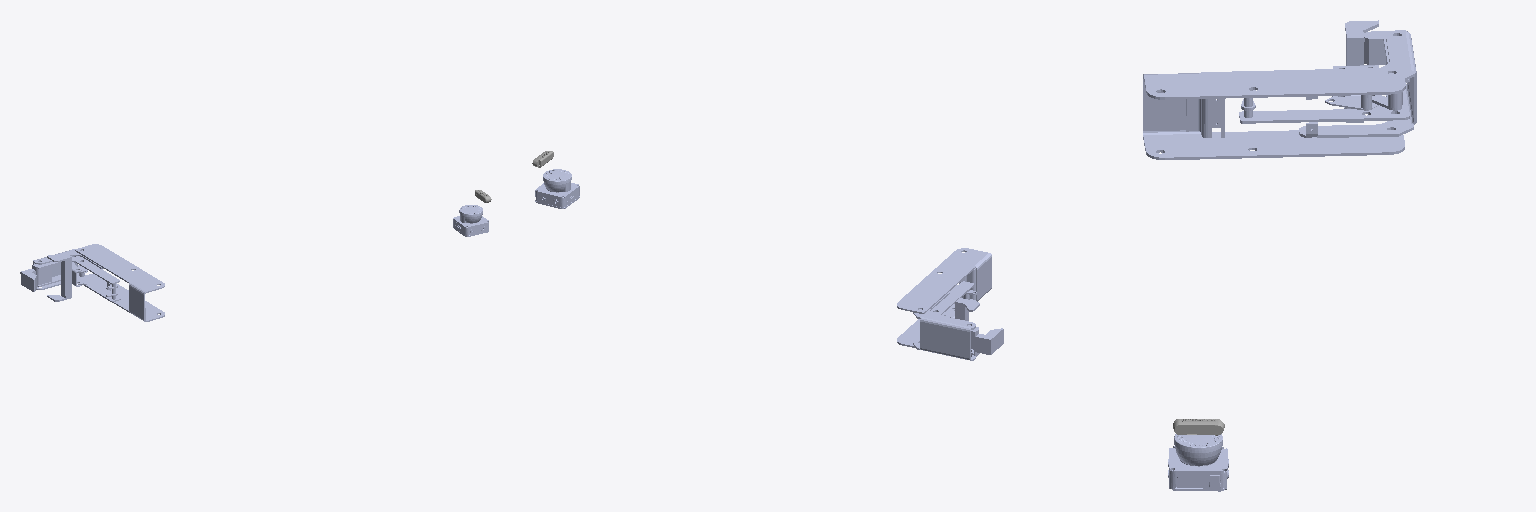
robot.urdf — tugging_robot_180424_3:
<?xml version="1.0" encoding="utf-8"?>
<!-- This URDF was automatically created by SolidWorks to URDF Exporter! Originally created by [author] ([email redacted]) 
     Commit Version: 1.6.0-4-g7f85cfe  Build Version: 1.6.7995.38578
     For more information, please see http://wiki.ros.org/sw_urdf_exporter -->
<robot
  name="tugging_robot_180424_3">
  <link
    name="base_link">
    <inertial>
      <origin
        xyz="0.29323 -1.5341 0.30875"
        rpy="0 0 0" />
      <mass
        value="70.132" />
      <inertia
        ixx="1.4254"
        ixy="-0.032669"
        ixz="0.0002593"
        iyy="3.0196"
        iyz="-0.0094349"
        izz="1.9355" />
    </inertial>
    <visual>
      <origin
        xyz="0 0 0"
        rpy="0 0 0" />
      <geometry>
        <mesh
          filename="package://tugging_robot_180424_3/meshes/base_link.STL" />
      </geometry>
      <material
        name="">
        <color
          rgba="0.79216 0.81961 0.93333 1" />
      </material>
    </visual>
    <collision>
      <origin
        xyz="0 0 0"
        rpy="0 0 0" />
      <geometry>
        <mesh
          filename="package://tugging_robot_180424_3/meshes/base_link.STL" />
      </geometry>
    </collision>
  </link>
  <link
    name="left_wheel">
    <inertial>
      <origin
        xyz="-1.5453E-08 1.6511E-08 -0.006167"
        rpy="0 0 0" />
      <mass
        value="1.2164" />
      <inertia
        ixx="0.0044416"
        ixy="4.9256E-07"
        ixz="4.7872E-11"
        iyy="0.0044446"
        iyz="-7.4615E-11"
        izz="0.0082257" />
    </inertial>
    <visual>
      <origin
        xyz="0 0 0"
        rpy="0 0 0" />
      <geometry>
        <mesh
          filename="package://tugging_robot_180424_3/meshes/left_wheel.STL" />
      </geometry>
      <material
        name="">
        <color
          rgba="0.79216 0.81961 0.93333 1" />
      </material>
    </visual>
    <collision>
      <origin
        xyz="0 0 0"
        rpy="0 0 0" />
      <geometry>
        <mesh
          filename="package://tugging_robot_180424_3/meshes/left_wheel.STL" />
      </geometry>
    </collision>
  </link>
  <joint
    name="left_wheel_joint"
    type="continuous">
    <origin
      xyz="0.30947 -0.62421 -1.725"
      rpy="1.5621 0 0" />
    <parent
      link="base_link" />
    <child
      link="left_wheel" />
    <axis
      xyz="0 0 -1" />
  </joint>
  <link
    name="right_wheel">
    <inertial>
      <origin
        xyz="-7.958E-09 -2.1168E-08 0.021167"
        rpy="0 0 0" />
      <mass
        value="1.2164" />
      <inertia
        ixx="0.0044424"
        ixy="-1.4232E-06"
        ixz="-4.3749E-11"
        iyy="0.0044438"
        iyz="-1.164E-10"
        izz="0.0082257" />
    </inertial>
    <visual>
      <origin
        xyz="0 0 0"
        rpy="0 0 0" />
      <geometry>
        <mesh
          filename="package://tugging_robot_180424_3/meshes/right_wheel.STL" />
      </geometry>
      <material
        name="">
        <color
          rgba="0.79216 0.81961 0.93333 1" />
      </material>
    </visual>
    <collision>
      <origin
        xyz="0 0 0"
        rpy="0 0 0" />
      <geometry>
        <mesh
          filename="package://tugging_robot_180424_3/meshes/right_wheel.STL" />
      </geometry>
    </collision>
  </link>
  <joint
    name="right_wheel_joint"
    type="continuous">
    <origin
      xyz="0.30947 0.029504 -1.7307"
      rpy="1.5621 0 0" />
    <parent
      link="base_link" />
    <child
      link="right_wheel" />
    <axis
      xyz="0 0 0" />
  </joint>
  <link
    name="lidar">
    <inertial>
      <origin
        xyz="-7.8711E-05 4.4721E-05 -0.045208"
        rpy="0 0 0" />
      <mass
        value="0.5925" />
      <inertia
        ixx="0.00070857"
        ixy="-1.3149E-06"
        ixz="1.5954E-06"
        iyy="0.00070664"
        iyz="3.8011E-07"
        izz="0.00080931" />
    </inertial>
    <visual>
      <origin
        xyz="0 0 0"
        rpy="0 0 0" />
      <geometry>
        <mesh
          filename="package://tugging_robot_180424_3/meshes/lidar.STL" />
      </geometry>
      <material
        name="">
        <color
          rgba="0.79216 0.81961 0.93333 1" />
      </material>
    </visual>
    <collision>
      <origin
        xyz="0 0 0"
        rpy="0 0 0" />
      <geometry>
        <mesh
          filename="package://tugging_robot_180424_3/meshes/lidar.STL" />
      </geometry>
    </collision>
  </link>
  <joint
    name="lidar_joint"
    type="fixed">
    <origin
      xyz="0.74778 -0.31034 -1.5542"
      rpy="-0.0087266 0 0" />
    <parent
      link="base_link" />
    <child
      link="lidar" />
    <axis
      xyz="0 0 0" />
  </joint>
  <link
    name="intel_realsense">
    <inertial>
      <origin
        xyz="-0.013292 -0.0014079 2.342E-05"
        rpy="0 0 0" />
      <mass
        value="0.036474" />
      <inertia
        ixx="2.3405E-05"
        ixy="-2.1062E-07"
        ixz="-1.0143E-08"
        iyy="3.5064E-06"
        iyz="1.6635E-09"
        izz="2.3613E-05" />
    </inertial>
    <visual>
      <origin
        xyz="0 0 0"
        rpy="0 0 0" />
      <geometry>
        <mesh
          filename="package://tugging_robot_180424_3/meshes/intel_realsense.STL" />
      </geometry>
      <material
        name="">
        <color
          rgba="0.70196 0.70196 0.70196 1" />
      </material>
    </visual>
    <collision>
      <origin
        xyz="0 0 0"
        rpy="0 0 0" />
      <geometry>
        <mesh
          filename="package://tugging_robot_180424_3/meshes/intel_realsense.STL" />
      </geometry>
    </collision>
  </link>
  <joint
    name="realsense_joint"
    type="fixed">
    <origin
      xyz="0.80748 -0.30997 -1.5121"
      rpy="-0.0087266 0 0" />
    <parent
      link="base_link" />
    <child
      link="intel_realsense" />
    <axis
      xyz="0 0 0" />
  </joint>
  <link
    name="tug_arm">
    <inertial>
      <origin
        xyz="-0.12555 -0.0083173 -0.12235"
        rpy="0 0 0" />
      <mass
        value="2.9903" />
      <inertia
        ixx="0.0096756"
        ixy="-0.00063126"
        ixz="-0.0001031"
        iyy="0.019163"
        iyz="-6.8302E-06"
        izz="0.015469" />
    </inertial>
    <visual>
      <origin
        xyz="0 0 0"
        rpy="0 0 0" />
      <geometry>
        <mesh
          filename="package://tugging_robot_180424_3/meshes/tug_arm.STL" />
      </geometry>
      <material
        name="">
        <color
          rgba="0.79216 0.81961 0.93333 1" />
      </material>
    </visual>
    <collision>
      <origin
        xyz="0 0 0"
        rpy="0 0 0" />
      <geometry>
        <mesh
          filename="package://tugging_robot_180424_3/meshes/tug_arm.STL" />
      </geometry>
    </collision>
  </link>
  <joint
    name="arm_joint"
    type="revolute">
    <origin
      xyz="0.30747 -0.30878 -1.1467"
      rpy="-0.0087266 0 0" />
    <parent
      link="base_link" />
    <child
      link="tug_arm" />
    <axis
      xyz="0 0 -1" />
    <limit
      lower="-1.57"
      upper="1.57"
      effort="1"
      velocity="1" />
  </joint>
  <link
    name="latch_arm">
    <inertial>
      <origin
        xyz="-0.19181 -6.7602E-05 0.10622"
        rpy="0 0 0" />
      <mass
        value="1.3616" />
      <inertia
        ixx="0.013429"
        ixy="4.732E-16"
        ixz="0.00047175"
        iyy="0.012919"
        iyz="-2.381E-16"
        izz="0.0040919" />
    </inertial>
    <visual>
      <origin
        xyz="0 0 0"
        rpy="0 0 0" />
      <geometry>
        <mesh
          filename="package://tugging_robot_180424_3/meshes/latch_arm.STL" />
      </geometry>
      <material
        name="">
        <color
          rgba="0.79216 0.81961 0.93333 1" />
      </material>
    </visual>
    <collision>
      <origin
        xyz="0 0 0"
        rpy="0 0 0" />
      <geometry>
        <mesh
          filename="package://tugging_robot_180424_3/meshes/latch_arm.STL" />
      </geometry>
    </collision>
  </link>
  <joint
    name="latching_joint"
    type="revolute">
    <origin
      xyz="-0.89298 -0.058158 -0.42853"
      rpy="0 0.005017 -3.0754" />
    <parent
      link="tug_arm" />
    <child
      link="latch_arm" />
    <axis
      xyz="0 -1 0" />
    <limit
      lower="-1.57"
      upper="1.57"
      effort="1"
      velocity="1" />
  </joint>
  <link
    name="sick_visionary_t_mini">
    <inertial>
      <origin
        xyz="-0.035127 -2.2204E-16 -1.7764E-15"
        rpy="0 0 0" />
      <mass
        value="0.4281" />
      <inertia
        ixx="0.00043558"
        ixy="6.7763E-20"
        ixz="-5.7213E-20"
        iyy="0.00038307"
        iyz="2.7764E-19"
        izz="0.00039974" />
    </inertial>
    <visual>
      <origin
        xyz="0 0 0"
        rpy="0 0 0" />
      <geometry>
        <mesh
          filename="package://tugging_robot_180424_3/meshes/sick_visionary_t_mini.STL" />
      </geometry>
      <material
        name="">
        <color
          rgba="0.79216 0.81961 0.93333 1" />
      </material>
    </visual>
    <collision>
      <origin
        xyz="0 0 0"
        rpy="0 0 0" />
      <geometry>
        <mesh
          filename="package://tugging_robot_180424_3/meshes/sick_visionary_t_mini.STL" />
      </geometry>
    </collision>
  </link>
  <joint
    name="sick_camera_mini"
    type="fixed">
    <origin
      xyz="-0.15171 0.0013107 0.36163"
      rpy="-0.0081677 -0.005017 0" />
    <parent
      link="latch_arm" />
    <child
      link="sick_visionary_t_mini" />
    <axis
      xyz="0 0 0" />
    <limit
      lower="0"
      upper="0"
      effort="1"
      velocity="1" />
  </joint>
</robot>

--- Facts derived from the render (not from the file) ---
Views: 3 orthographic renders of the robot side by side, from view 1: azimuth 30°, elevation 25°; view 2: azimuth 150°, elevation 25°; view 3: azimuth 270°, elevation 25°.
Robot: tugging_robot_180424_3 — 8 links, 7 joints (2 revolute, 2 continuous, 3 fixed); root link base_link; default pose: every joint at zero.
Visible links, largest first — view 1: latch_arm, lidar; view 2: latch_arm, lidar; view 3: latch_arm, lidar, intel_realsense.
Boxes of the visible links, <box> form: latch_arm: <box>20,244,164,321</box>; lidar: <box>453,205,488,236</box>; latch_arm: <box>897,248,1003,360</box>; lidar: <box>535,169,579,208</box>; latch_arm: <box>1143,20,1416,159</box>; lidar: <box>1168,434,1228,491</box>; intel_realsense: <box>1173,419,1224,435</box>.
Size in the robot's own frame: 1.73 by 0.4751 by 0.1628 metres.
Meshes: 8 distinct files referenced, 3 mesh visuals loaded (3 binary STL); not drawn: 5 (reference not matched to a file when rendering).